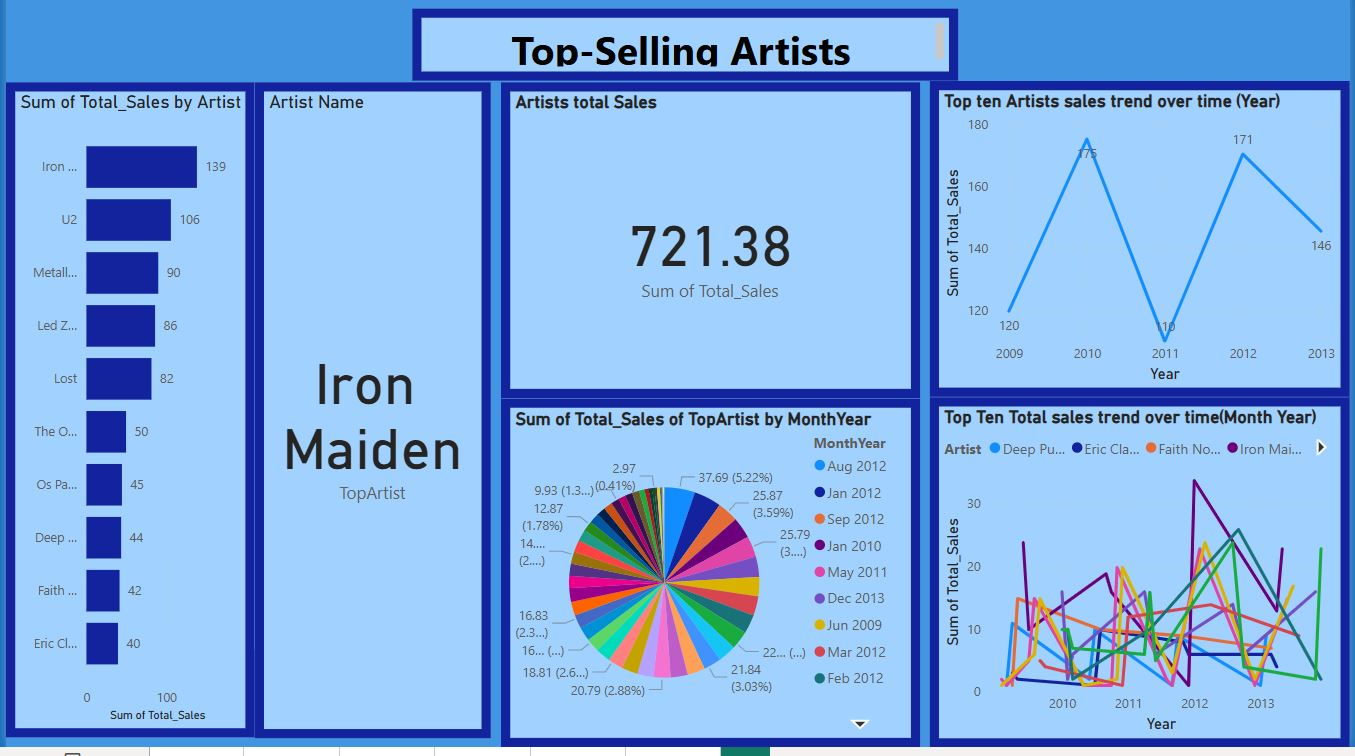

What the dashboard file says about the page in this screenshot:
{"tool":"powerbi","page":{"name":"Page 1","canvas":[1280,720],"ordinal":0},"visuals":[{"type":"clusteredBarChart","fields":{"Category":["top_artist.Artist"],"Y":["Sum(top_artist.Total_Sales)"]},"box":[48,97.4,212.7,623],"z":0},{"type":"textbox","box":[387,16.5,480.3,59],"z":1000},{"type":"card","title":"Artists total Sales","fields":{"Values":["Sum(top_artist.Total_Sales)"]},"box":[510.5,97.4,356.8,289.5],"z":2000},{"type":"lineChart","title":"Top Ten Total sales trend over time(Month Year)","fields":{"Y":["Sum(sales_trend.Total_Sales)"],"Series":["sales_trend.Artist"],"Category":["sales_trend.MonthYearSort.Variation.Date Hierarchy.Year","sales_trend.MonthYearSort.Variation.Date Hierarchy.Month"]},"box":[916.6,408.9,300.5,311.5],"z":3000},{"type":"lineChart","title":"Top ten Artists  sales trend over time (Year)","fields":{"Category":["sales_trend.Month.Variation.Date Hierarchy.Year","sales_trend.Month.Variation.Date Hierarchy.Quarter","sales_trend.Month.Variation.Date Hierarchy.Month","sales_trend.Month.Variation.Date Hierarchy.Day"],"Y":["Sum(sales_trend.Total_Sales)"]},"box":[915.3,97.4,300.5,289.5],"z":4000},{"type":"pieChart","fields":{"Y":["Sum(sales_trend.Total_Sales)"],"Category":["sales_trend.MonthYear"]},"box":[510.5,408.9,359.5,311.5],"z":5000},{"type":"card","title":"Artist Name ","fields":{"Values":["sales_trend.TopArtist"]},"box":[286.8,97.4,201.7,623],"z":6000}]}

Visuals, with their boxes in screenshot pixels (x1, y1, x2, y2), scaled from the page's 1280x720 canvas onto the 1355x756 screenshot:
clusteredBarChart - top_artist.Artist x Sum(top_artist.Total_Sales): bbox=[51, 102, 276, 755]
textbox: bbox=[410, 17, 918, 79]
"Artists total Sales" card: bbox=[540, 102, 918, 406]
"Top Ten Total sales trend over time(Month Year)" lineChart: bbox=[970, 429, 1288, 755]
"Top ten Artists  sales trend over time (Year)" lineChart: bbox=[969, 102, 1287, 406]
pieChart - Sum(sales_trend.Total_Sales) x sales_trend.MonthYear: bbox=[540, 429, 921, 755]
"Artist Name " card: bbox=[304, 102, 517, 755]
